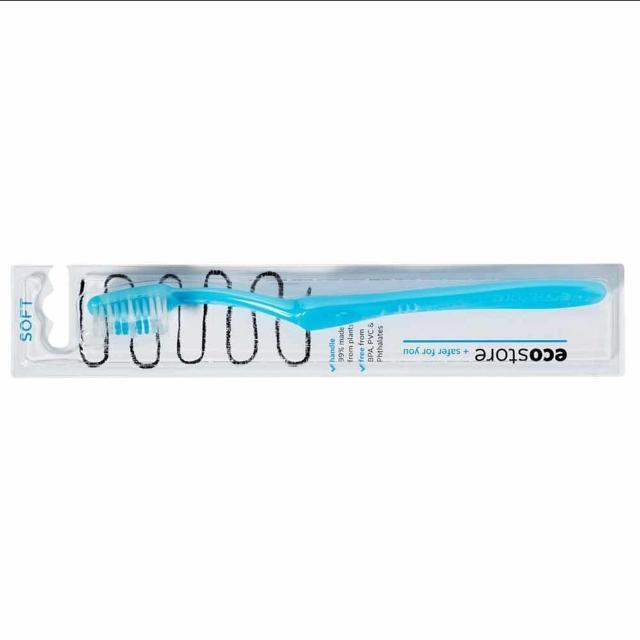toothbrush: (2, 264, 612, 380)
